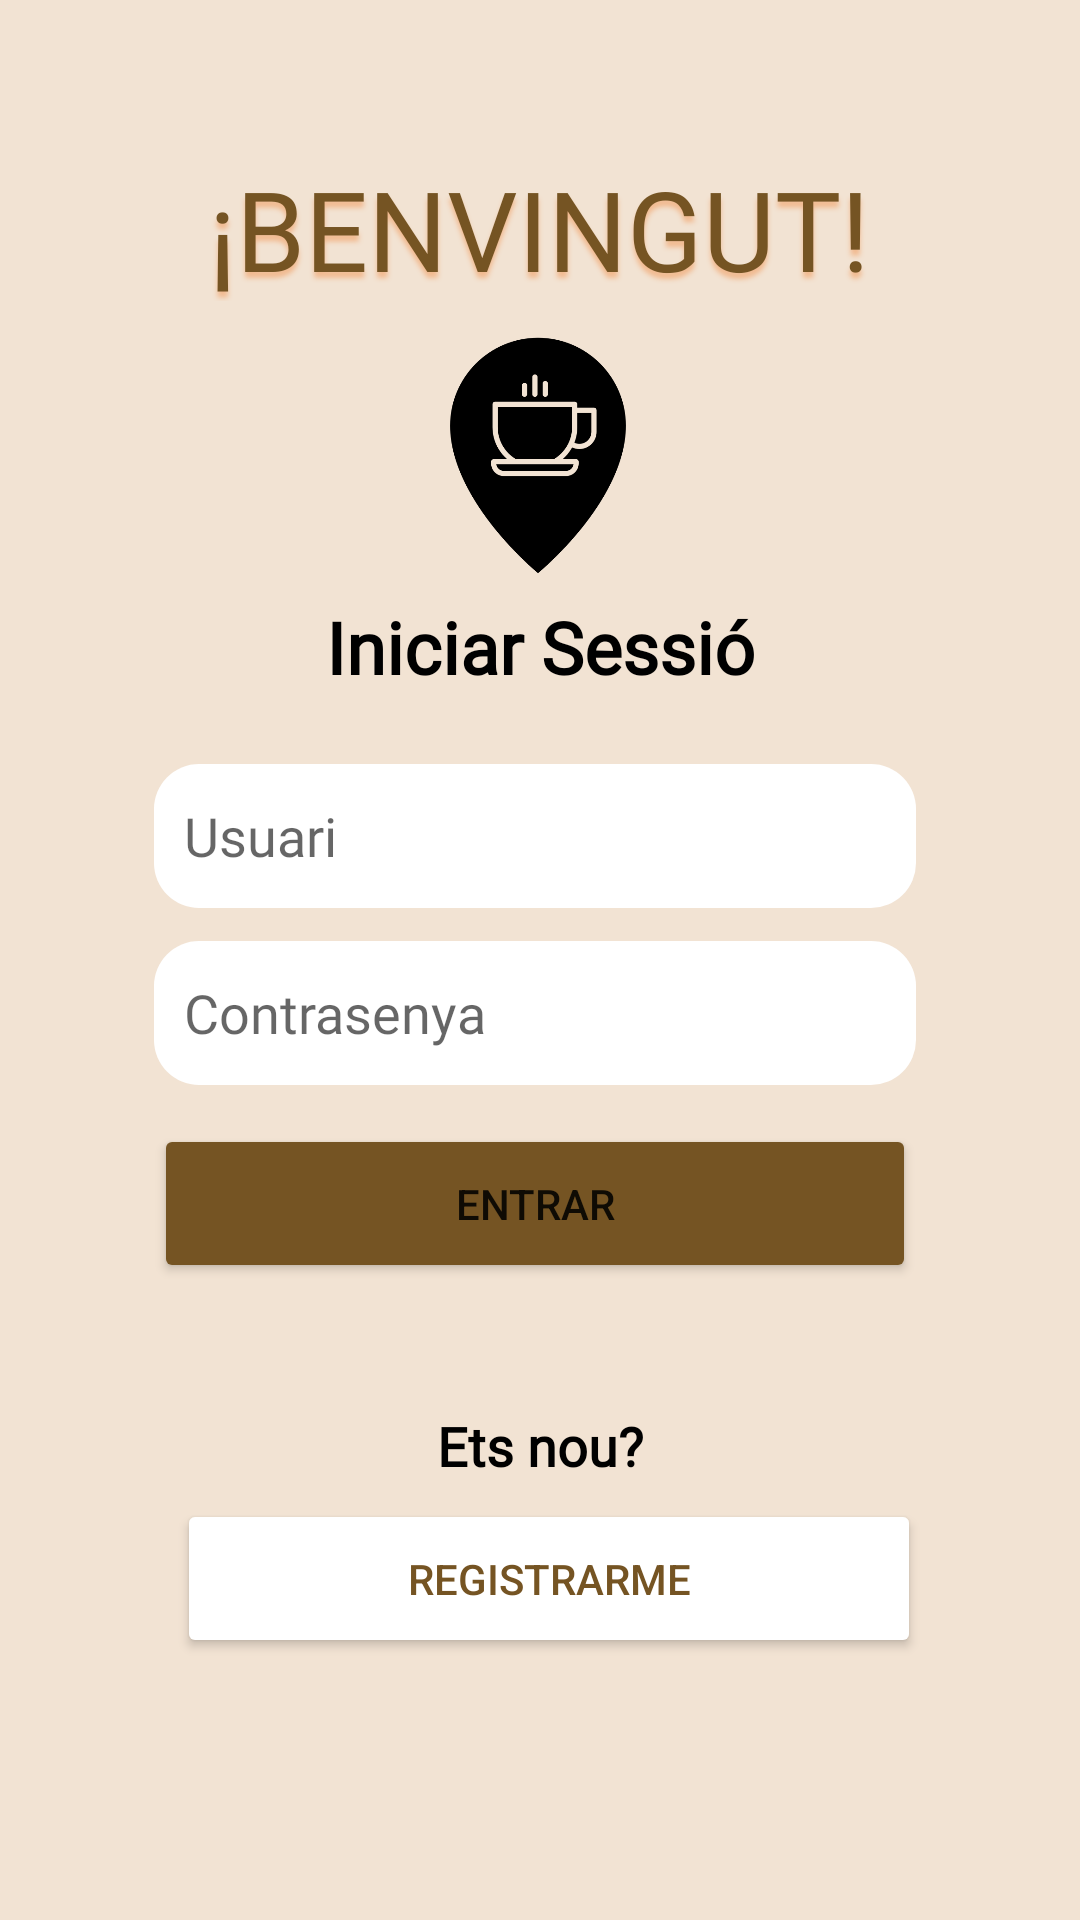

Named icons in this screenshot (1080x1920) and their centers, [x,y]:
cafe: [538,455]
